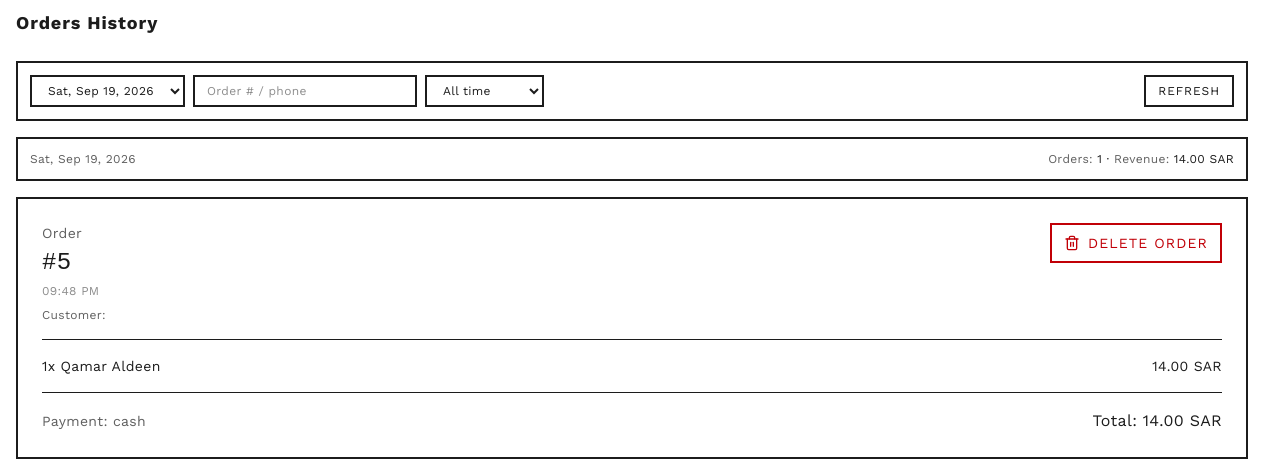
Test: deletes from the history card, updates totals and removes the last card
Click the button named "Delete order 20260919-005" at (1136, 243), box [1050,223,1222,263]
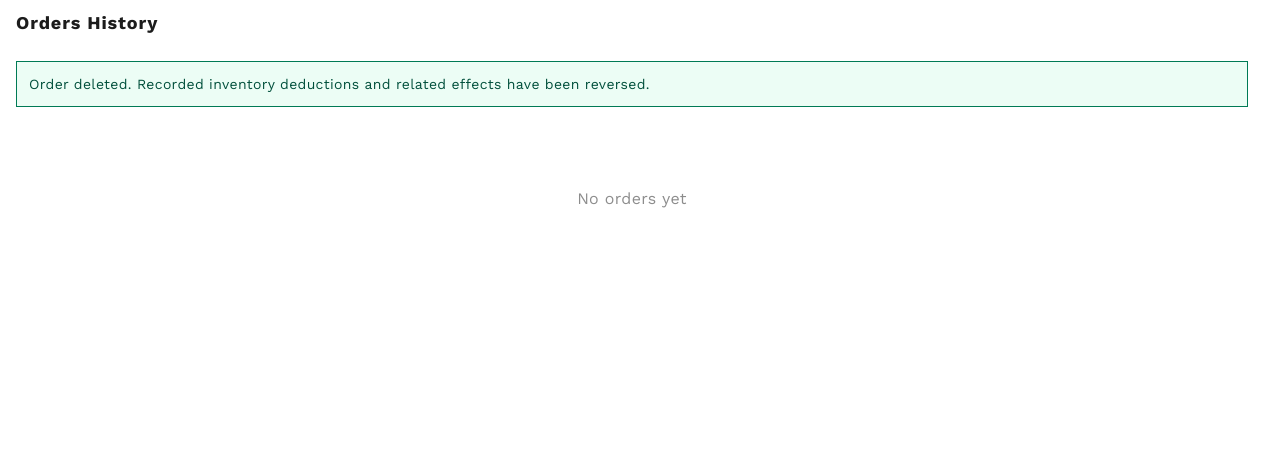
Expected: the text "Qamar Aldeen" is gone
Expected: the message shows "Order deleted", [29,76,650,92]
